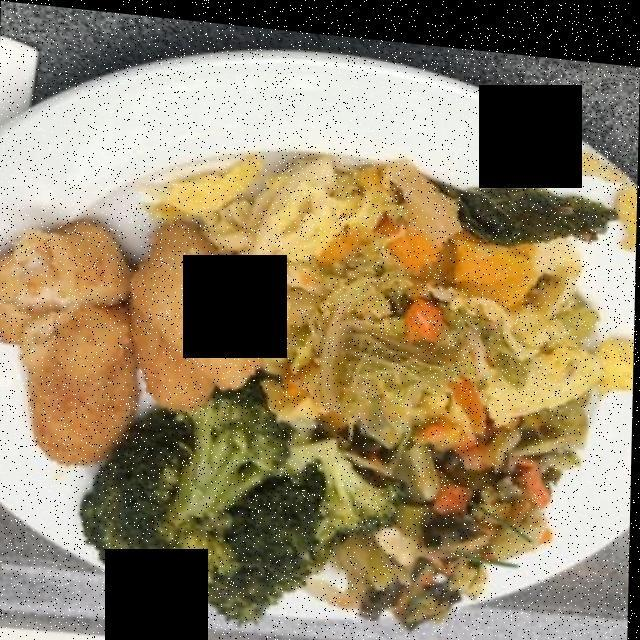broccoli: (78, 405, 391, 610)
fish: (0, 215, 256, 456)
mixed-vegetables: (166, 162, 609, 607)
